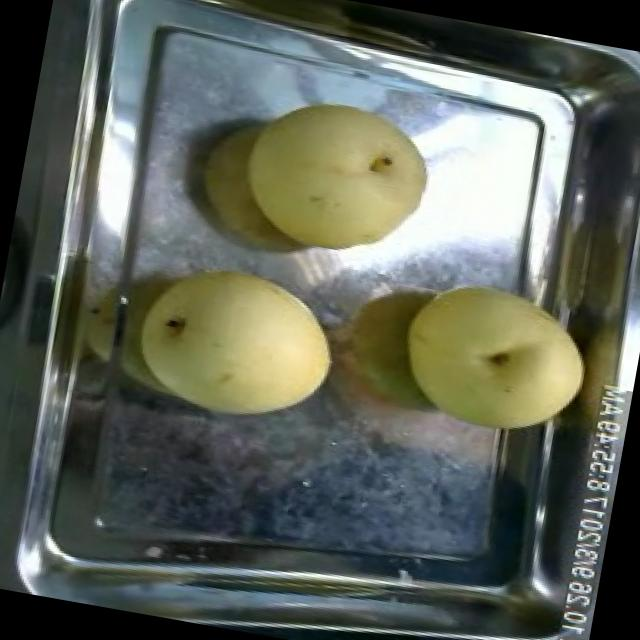Fruit: (220, 78, 452, 279), (121, 244, 352, 441), (380, 260, 606, 454)
